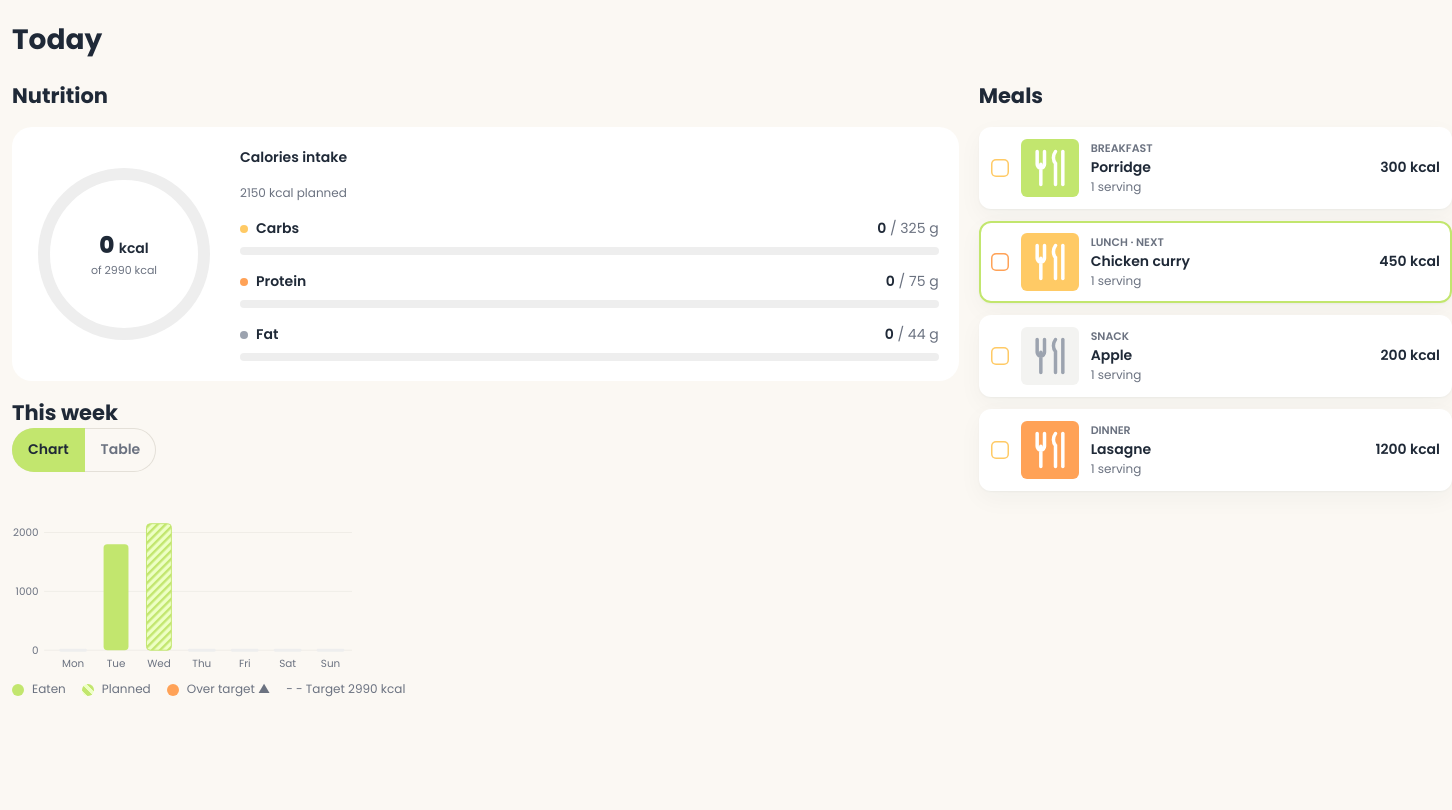
Test: TodayPage › AC-11: the next unticked meal after the time is marked, then moves on
Check: the text "Lunch · next" is shown, box [1091,234,1164,250]
Click the checkbox named "lunch".
click(1000, 262)  # box [991,252,1009,270]
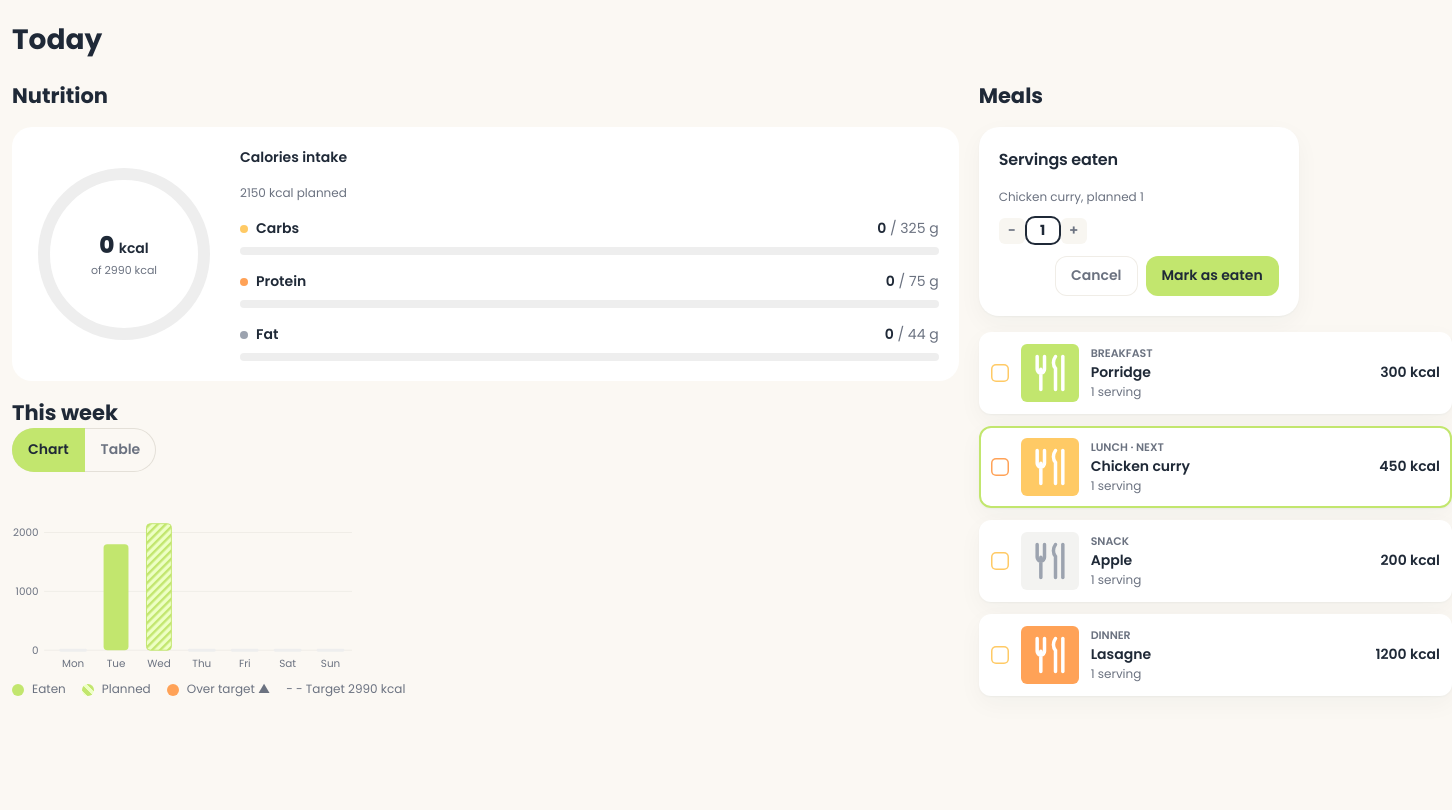
Click the button "Mark as eaten".
click(1212, 276)  # box [1146,256,1279,296]
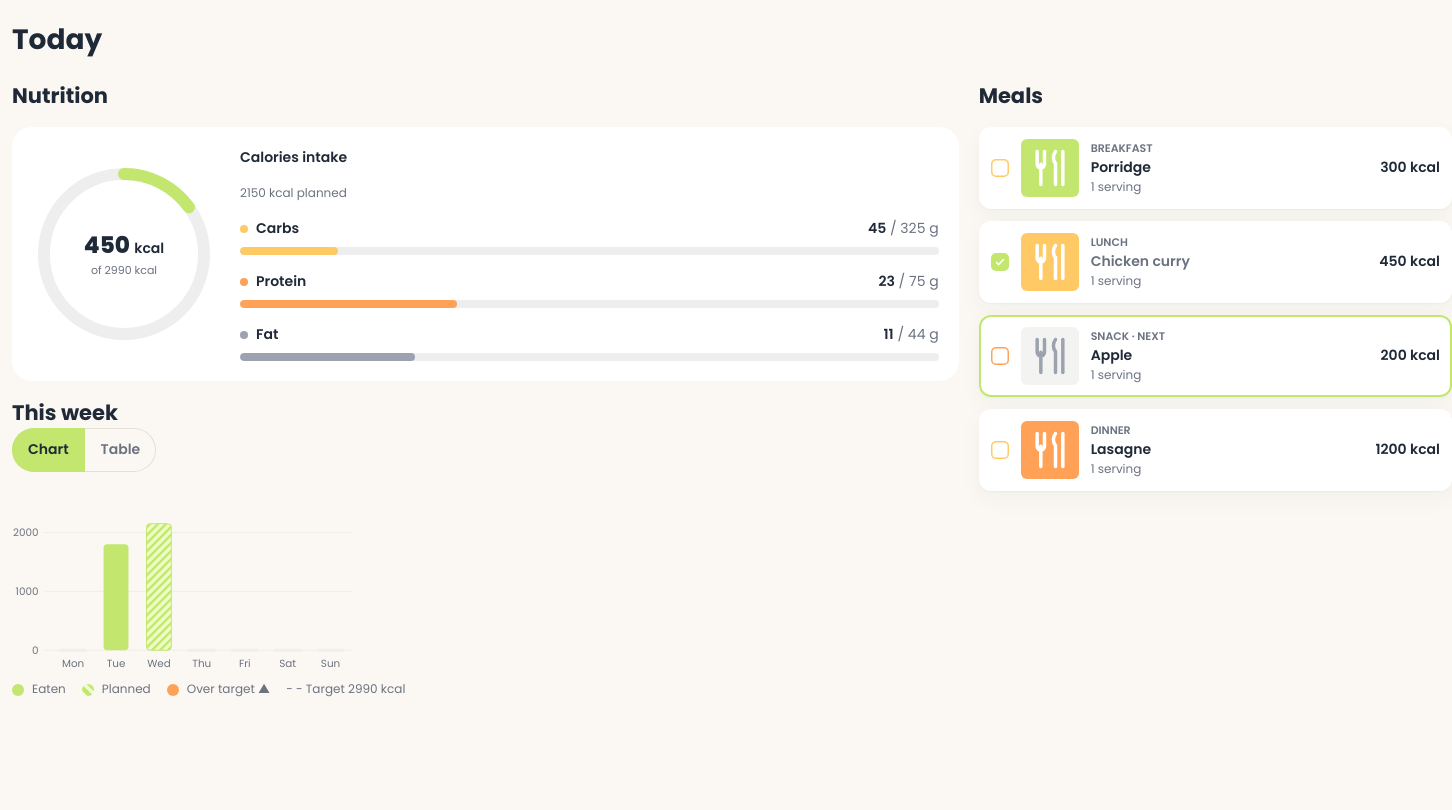
Check: the text "Snack · next" is shown, box [1091,328,1165,344]
